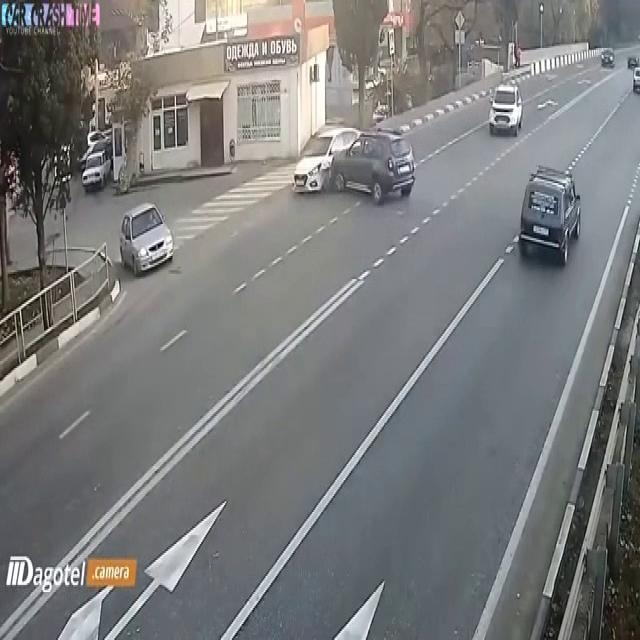accident: (290, 122, 368, 204)
